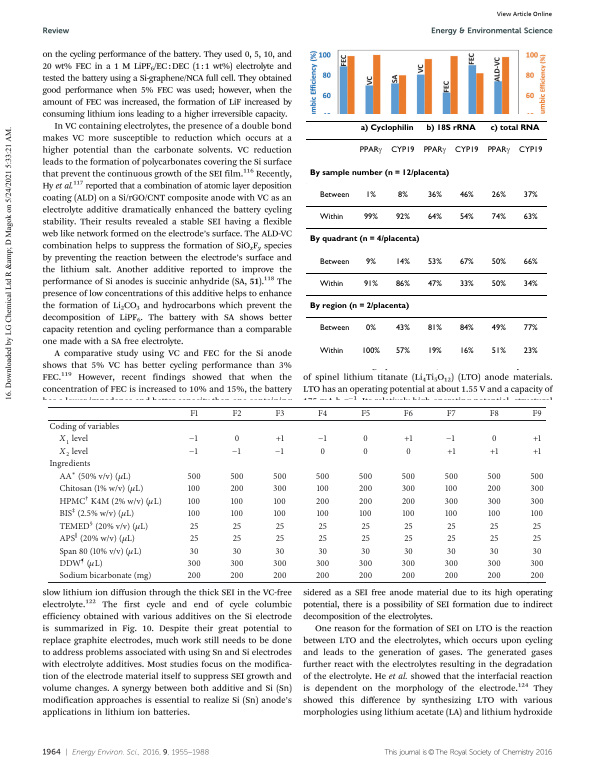borderless: (46, 405, 546, 582), (304, 119, 548, 363)
cell: (58, 492, 163, 509), (58, 518, 149, 534), (308, 168, 450, 178), (58, 481, 144, 496), (58, 543, 143, 558), (58, 530, 136, 546), (58, 505, 135, 521), (58, 468, 132, 484), (58, 571, 152, 582), (308, 235, 420, 244), (308, 302, 410, 311), (58, 555, 104, 571), (48, 422, 120, 432), (358, 135, 382, 157), (422, 135, 446, 157), (486, 135, 510, 157), (58, 443, 89, 460), (58, 431, 89, 447), (359, 124, 414, 133), (48, 459, 91, 470), (425, 124, 476, 133), (489, 124, 540, 133), (318, 190, 350, 198), (318, 257, 350, 265), (318, 324, 350, 332), (318, 279, 344, 287), (318, 346, 344, 354), (390, 146, 415, 154), (454, 146, 479, 154), (518, 146, 543, 154), (188, 443, 200, 459), (231, 443, 243, 459), (274, 443, 286, 459), (318, 213, 344, 220), (188, 431, 200, 446), (317, 431, 329, 446), (229, 484, 245, 495), (229, 571, 245, 582), (446, 431, 457, 446), (272, 484, 287, 495), (358, 484, 373, 495), (401, 484, 416, 495), (487, 484, 502, 495), (530, 484, 545, 495), (315, 496, 330, 507), (358, 496, 373, 507), (401, 496, 416, 507), (444, 496, 459, 507), (487, 496, 502, 507), (530, 496, 545, 507), (187, 571, 202, 582), (272, 571, 287, 582), (315, 571, 330, 582), (358, 571, 373, 582), (401, 571, 416, 582), (444, 571, 459, 582), (487, 571, 502, 582), (530, 571, 545, 582), (229, 472, 245, 482), (229, 559, 245, 569), (360, 346, 380, 354), (187, 484, 201, 495), (316, 484, 330, 495), (444, 484, 458, 495), (187, 496, 201, 507), (230, 496, 244, 507), (273, 496, 287, 507), (187, 509, 201, 520), (230, 509, 244, 520), (273, 509, 287, 520), (316, 509, 330, 520), (359, 509, 373, 520), (401, 509, 415, 520), (444, 509, 458, 520), (487, 509, 501, 520), (530, 509, 544, 520), (187, 472, 202, 482), (272, 472, 287, 482), (315, 472, 330, 482), (358, 472, 373, 482), (401, 472, 416, 482), (444, 472, 459, 482), (487, 472, 502, 482), (530, 472, 545, 482), (187, 559, 202, 569), (272, 559, 287, 569), (315, 559, 330, 569), (358, 559, 373, 569), (401, 559, 416, 569), (444, 559, 459, 569), (487, 559, 502, 569), (530, 559, 545, 569), (426, 190, 442, 198), (458, 190, 474, 198), (490, 190, 506, 198), (522, 190, 538, 198), (394, 257, 410, 265), (426, 257, 442, 265), (458, 257, 474, 265), (490, 257, 506, 265), (522, 257, 538, 265), (362, 279, 378, 287), (394, 279, 410, 287), (426, 279, 442, 287), (458, 279, 474, 287), (490, 279, 506, 287), (522, 279, 538, 287), (394, 324, 410, 332), (426, 324, 442, 332), (458, 324, 474, 332), (490, 324, 506, 332), (522, 324, 538, 332), (394, 346, 410, 354), (426, 346, 442, 354), (458, 346, 474, 354), (490, 346, 506, 354), (522, 346, 538, 354), (274, 409, 285, 420), (317, 409, 328, 420), (360, 409, 371, 420), (403, 409, 414, 420), (446, 409, 457, 420), (489, 409, 500, 420), (532, 409, 543, 420), (403, 434, 414, 445), (360, 521, 371, 532), (403, 521, 414, 532), (446, 521, 457, 532), (317, 546, 328, 557), (360, 546, 371, 557), (403, 546, 414, 557), (446, 546, 457, 557), (362, 213, 378, 220), (394, 213, 410, 220), (426, 213, 442, 220), (458, 213, 474, 220), (490, 213, 506, 220), (522, 213, 538, 220), (189, 409, 199, 420), (232, 409, 242, 420), (275, 434, 285, 445), (532, 434, 542, 445), (189, 521, 199, 532), (232, 521, 242, 532), (275, 521, 285, 532), (318, 521, 328, 532), (489, 521, 499, 532), (532, 521, 542, 532), (360, 534, 371, 544), (403, 534, 414, 544), (446, 534, 457, 544), (189, 546, 199, 557), (232, 546, 242, 557), (275, 546, 285, 557), (489, 546, 499, 557), (532, 546, 542, 557), (446, 447, 456, 457), (489, 447, 499, 457), (532, 447, 542, 457), (189, 534, 199, 544), (232, 534, 242, 544), (275, 534, 285, 544), (318, 534, 328, 544), (489, 534, 499, 544), (532, 534, 542, 544), (365, 190, 376, 198), (397, 190, 408, 198), (365, 257, 376, 265), (365, 324, 376, 332), (362, 434, 369, 445), (362, 447, 369, 457), (405, 447, 412, 457), (234, 434, 240, 445), (491, 434, 497, 445), (320, 447, 326, 457)
